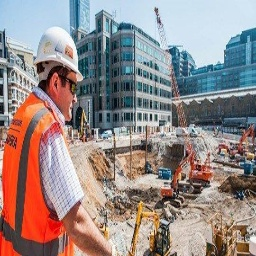helmet: (32, 24, 84, 85)
person: (6, 19, 100, 247)
vest: (5, 96, 79, 256)
